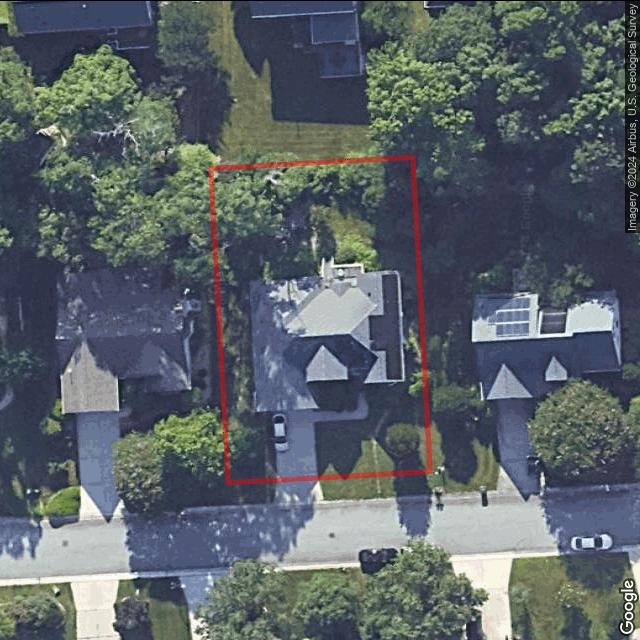Driveway: (275, 408, 318, 479)
Extra-Driveway: (272, 477, 324, 502)
Extra-Lawn: (319, 469, 429, 499), (229, 479, 277, 503)
House: (248, 270, 405, 411)
Lawn: (211, 156, 429, 481)
Other: (322, 241, 364, 278)
Sidewalk: (313, 382, 368, 420)
